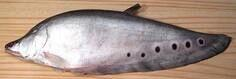Knifefish: (4, 5, 232, 75)
